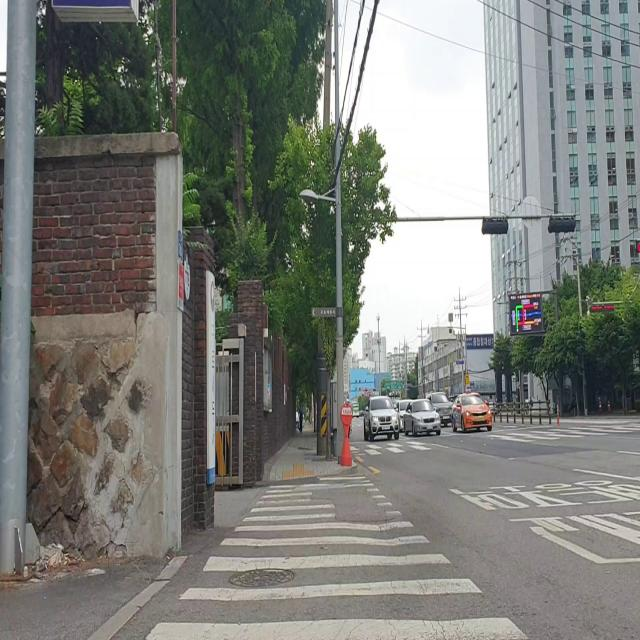횡단보도: (142, 475, 532, 640), (350, 419, 640, 457)
